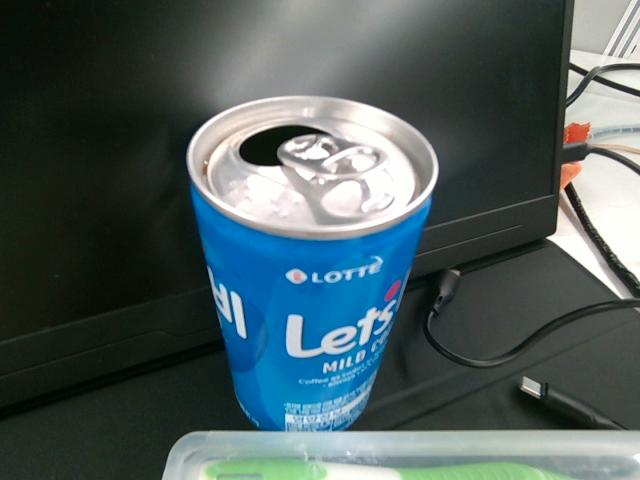letsbe: (185, 93, 439, 431)
